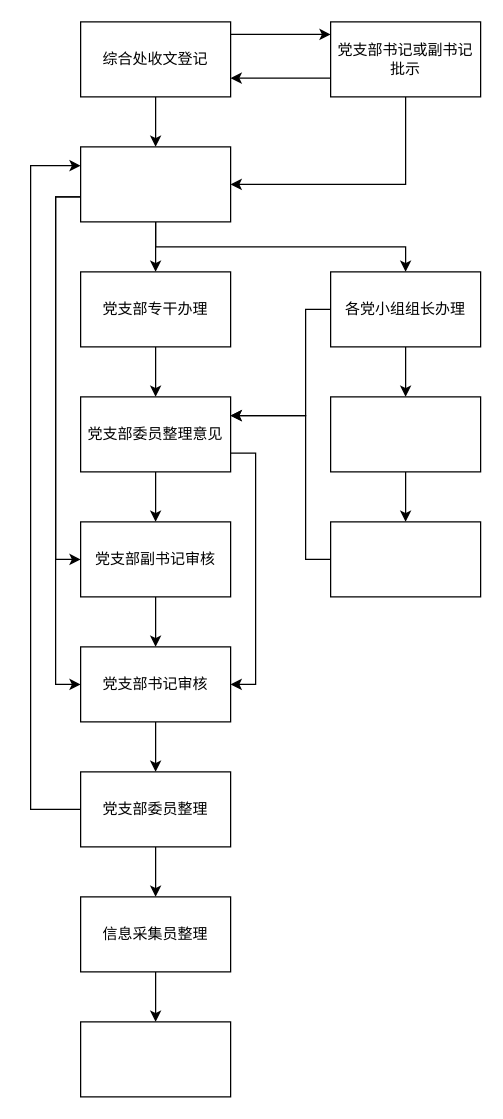
The diagram is 503 pixels wide and 1119 high, and some of its shapes have lost their labels. Each missing label, with the centre of its shape:
"党支部委员办理" goes at [155,184].
"各党小组组员办理" goes at [405,434].
"各党小组组长审核" goes at [405,559].
"综合处归档" goes at [155,1059].
